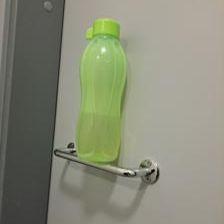bottle: (71, 17, 131, 164)
